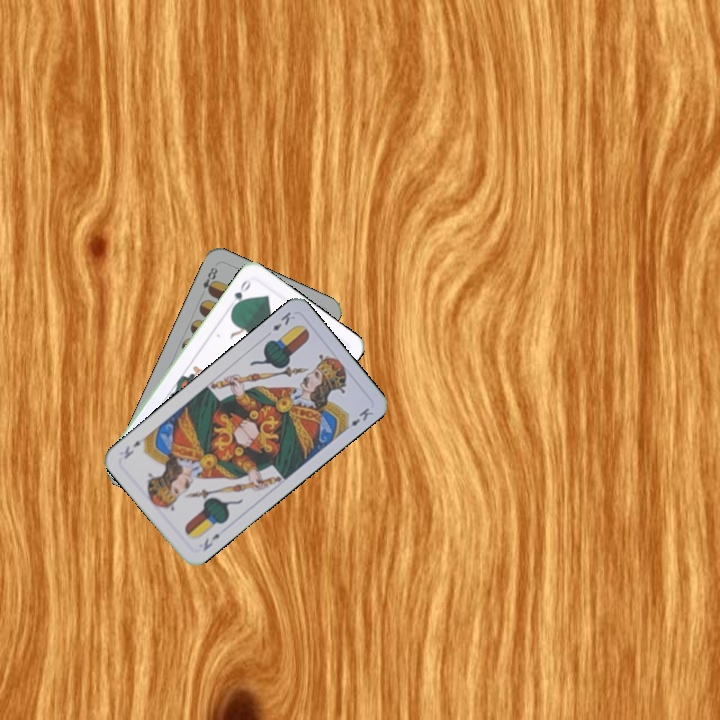E8: (198, 263, 220, 297)
EK: (199, 525, 229, 554), (268, 307, 297, 333)
GO: (228, 276, 254, 312)
